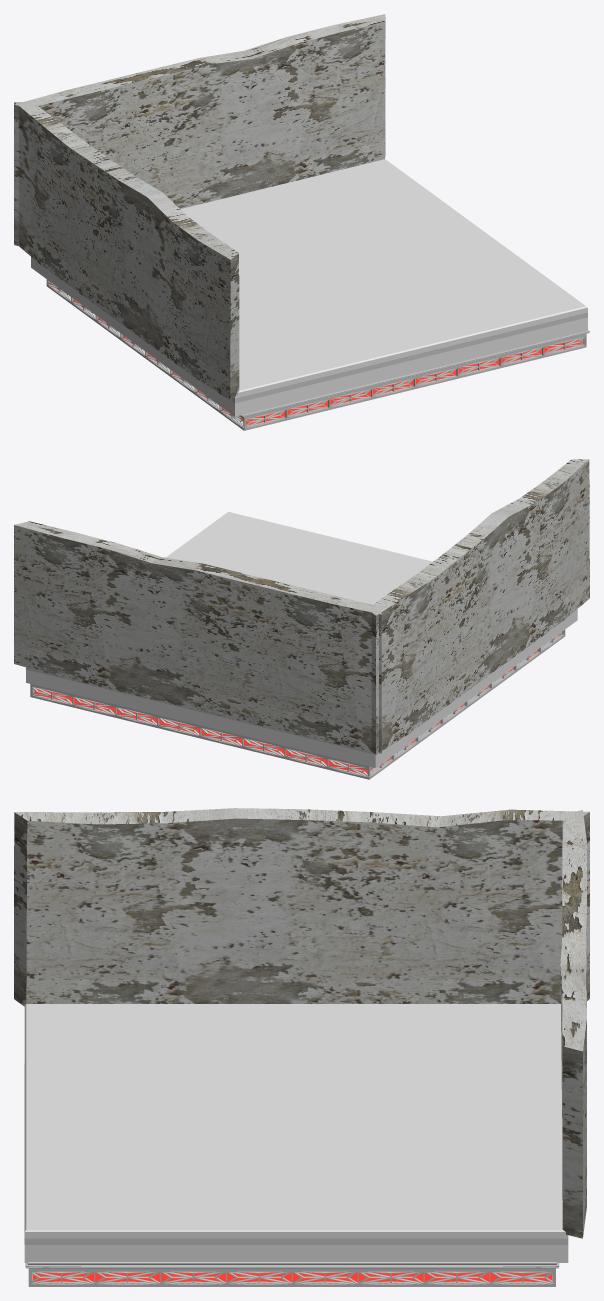
Rendered from gamelvltest3.fbx.
3 renders of one model, top to bottom at view 1: azimuth 30°, elevation 25°; view 2: azimuth 150°, elevation 25°; view 3: azimuth 270°, elevation 25°, orthographic. The views are drawn at different scales.
Parts seen in each view (by area): view 1: Cube.010, Cube.009, Cube.005, Cube.008; view 2: Cube.010, Cube.009, Cube.005, Cube.008; view 3: Cube.009, Cube.010, Cube.005, Cube.008.
Part boxes in pixels (left/top/right/bottom): Cube.010: left=14, top=14, right=385, bottom=400; Cube.009: left=31, top=159, right=587, bottom=416; Cube.005: left=46, top=279, right=589, bottom=430; Cube.008: left=51, top=283, right=582, bottom=424; Cube.010: left=14, top=459, right=589, bottom=754; Cube.009: left=26, top=511, right=577, bottom=767; Cube.005: left=30, top=629, right=565, bottom=779; Cube.008: left=34, top=634, right=560, bottom=773; Cube.009: left=24, top=1004, right=568, bottom=1262; Cube.010: left=14, top=808, right=589, bottom=1238; Cube.005: left=24, top=1063, right=559, bottom=1286; Cube.008: left=32, top=1272, right=552, bottom=1281.
Bounding box in the file's own units: 618 × 290 × 622.
